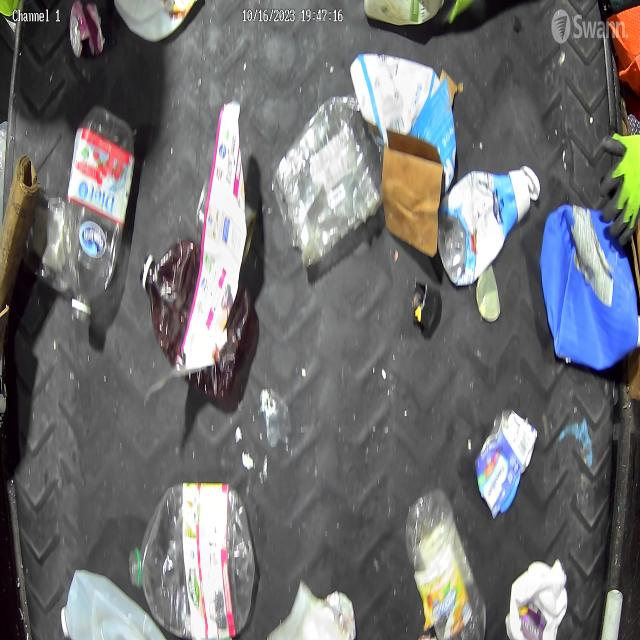can: (474, 408, 540, 520), (69, 0, 105, 60), (475, 265, 502, 324)
milk_jug: (60, 566, 166, 640)
non_white_jug: (539, 203, 640, 372)
plastic_bottle: (127, 479, 256, 640), (62, 104, 136, 323), (406, 487, 488, 640)
